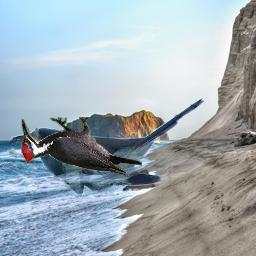Cuckoo: (9, 96, 210, 196)
Woodpecker: (21, 117, 142, 176)
